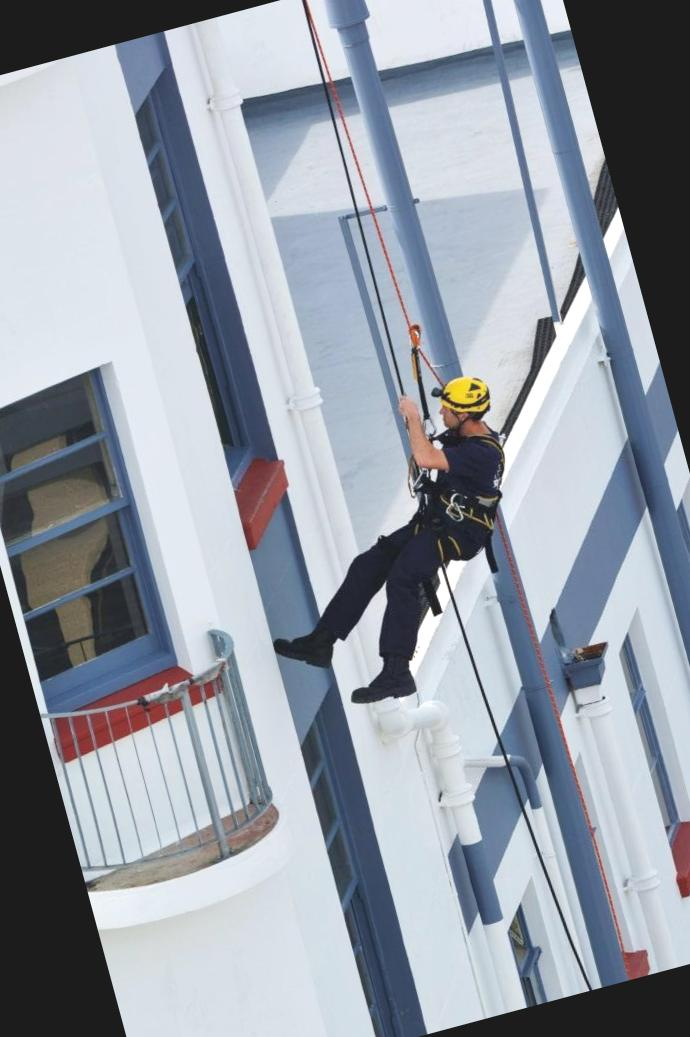helmet: (427, 361, 498, 437)
person: (219, 354, 565, 728)
